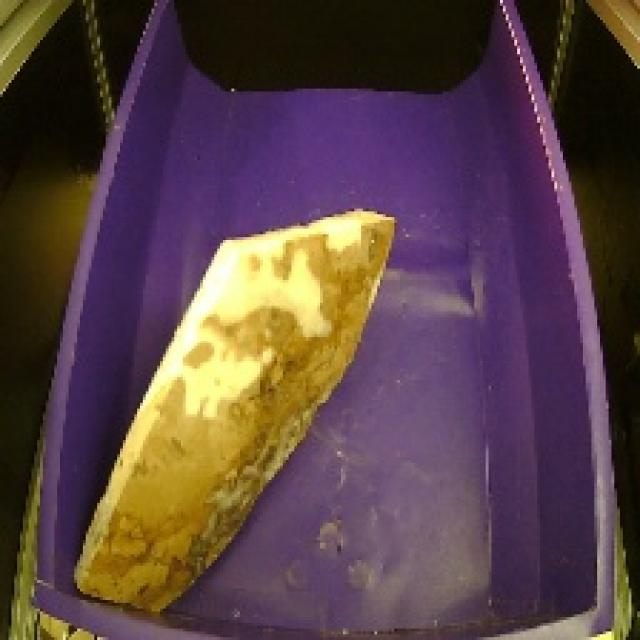china: (64, 198, 403, 625)
